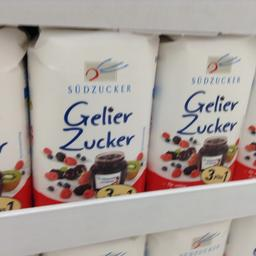sugar: (25, 26, 158, 204), (142, 34, 254, 188)
